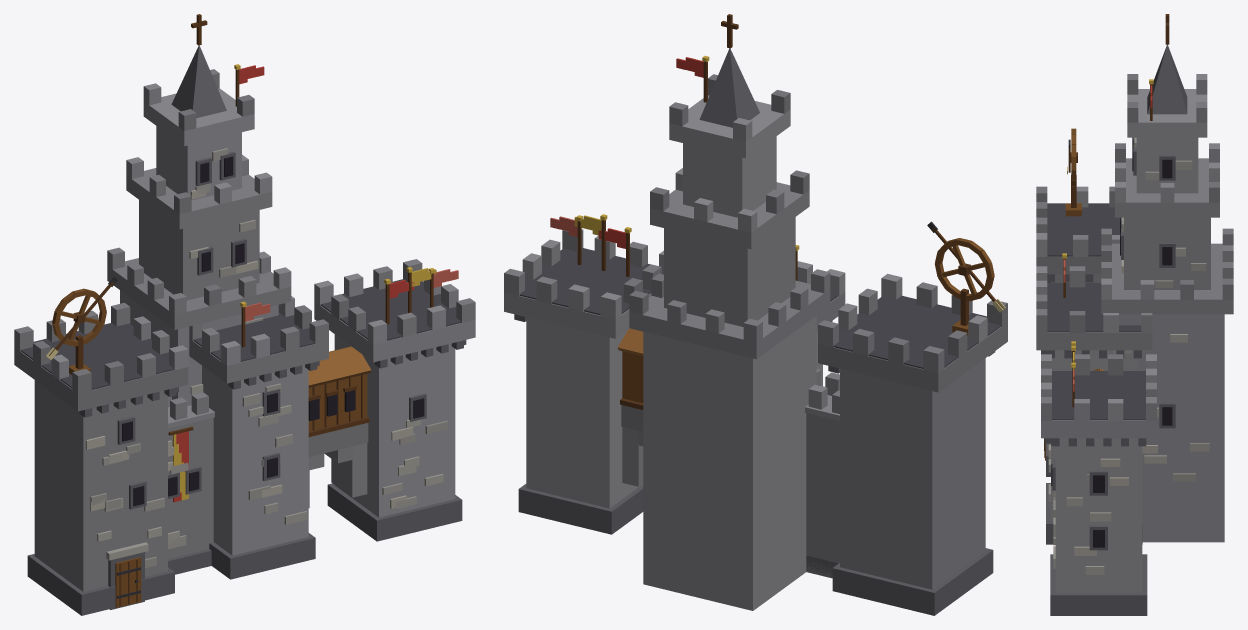
Rendered from stage4.glb.
The picture shows the model from 3 angles, left to right: view 1: azimuth 30°, elevation 25°; view 2: azimuth 150°, elevation 25°; view 3: azimuth 270°, elevation 25°; orthographic projection. The views are drawn at different scales.
Visible parts, largest first — view 1: body, ballista; view 2: body, ballista; view 3: body, ballista.
Part boxes in pixels (<box>): body: <box>14,14,475,615</box>; ballista: <box>46,277,117,374</box>; body: <box>504,14,1007,615</box>; ballista: <box>927,221,1005,335</box>; body: <box>1036,14,1233,615</box>; ballista: <box>1065,128,1081,216</box>.
Bounding box in the file's own units: 10.28 × 12.2 × 4.32.
